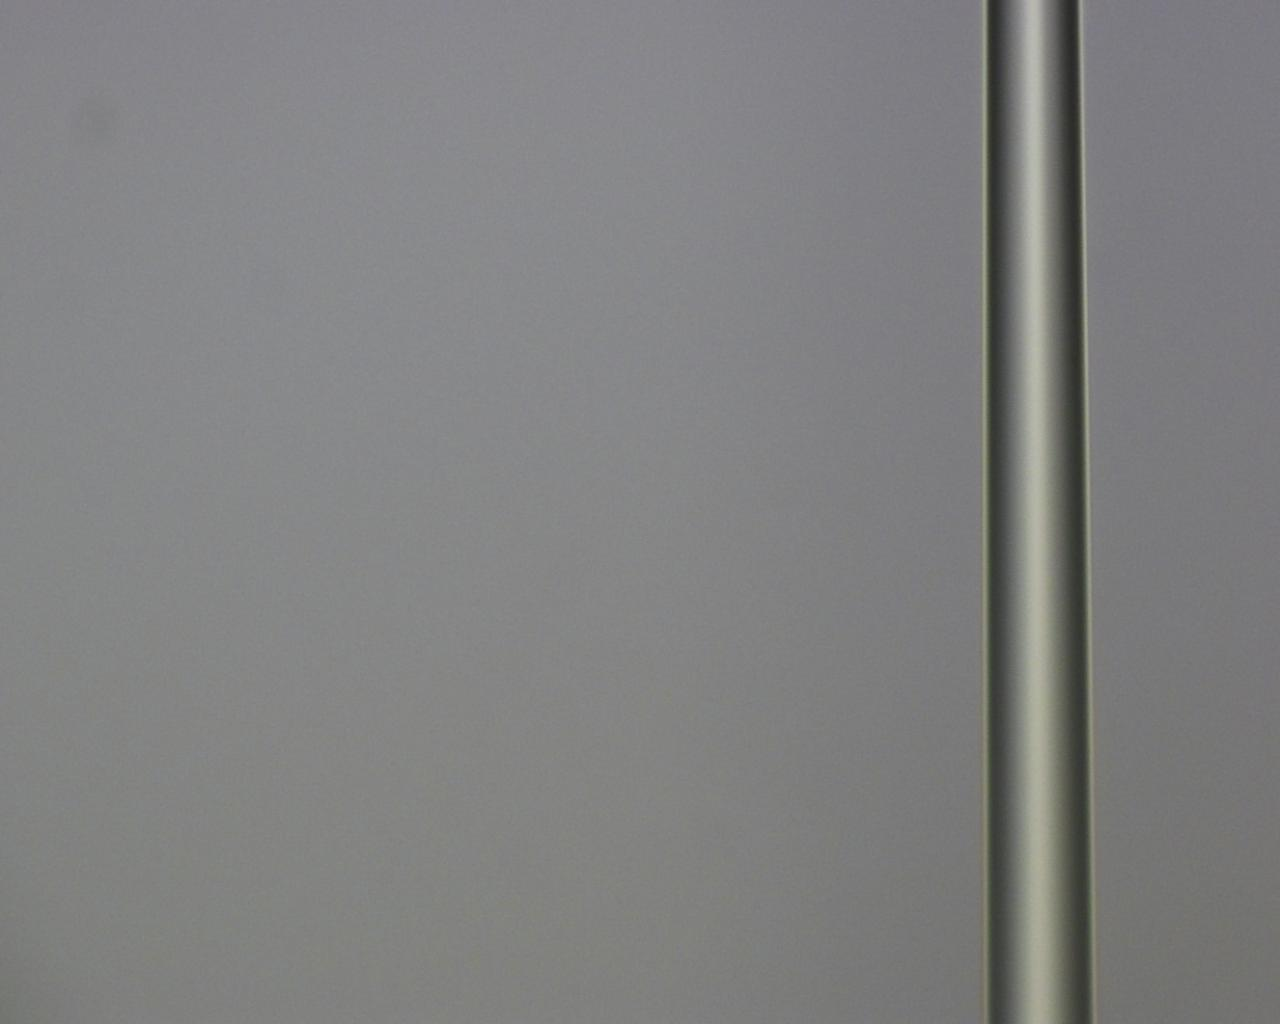fiber: (127, 146, 1151, 776)
